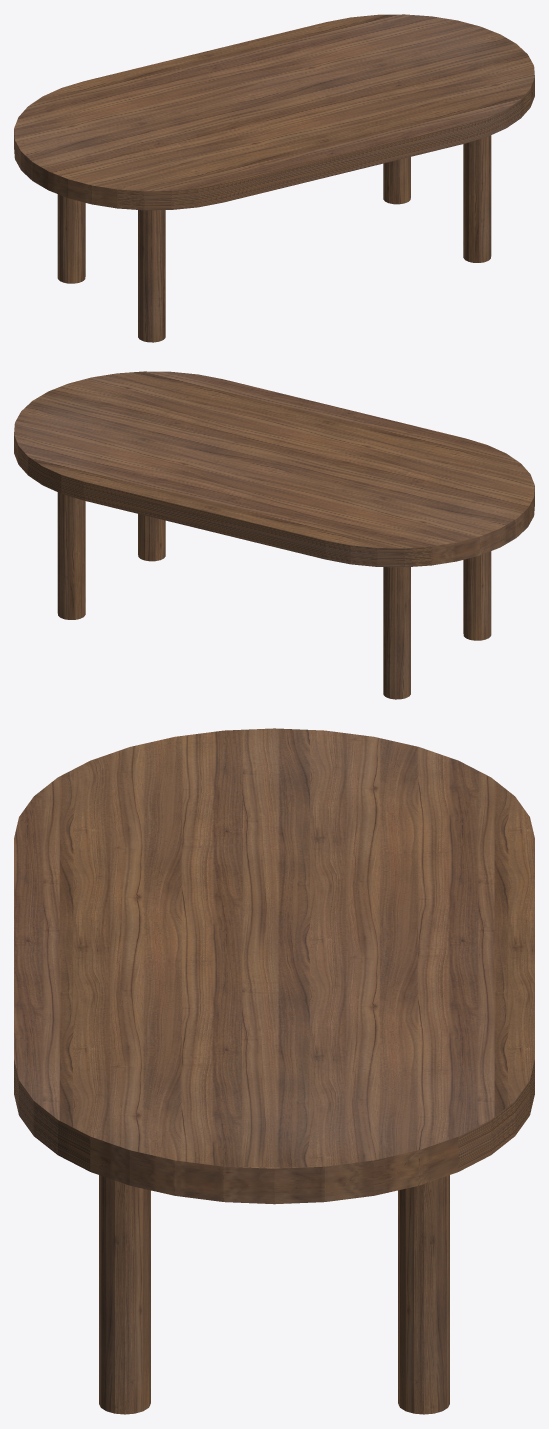
The model's file is Mesa.obj.
3 renders of one model, top to bottom at view 1: azimuth 30°, elevation 25°; view 2: azimuth 150°, elevation 25°; view 3: azimuth 270°, elevation 25°, orthographic. The views are drawn at different scales.
Size of the model in its own units: 2 by 0.65 by 1.
Materials: 1 (1 with a texture image).
